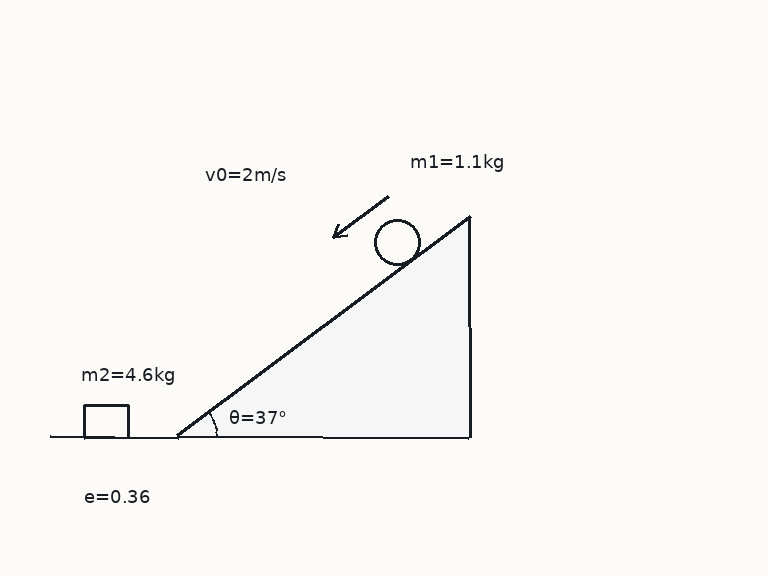ball: (372, 217, 422, 267)
block: (82, 403, 130, 439)
ramp: (175, 215, 471, 439)
